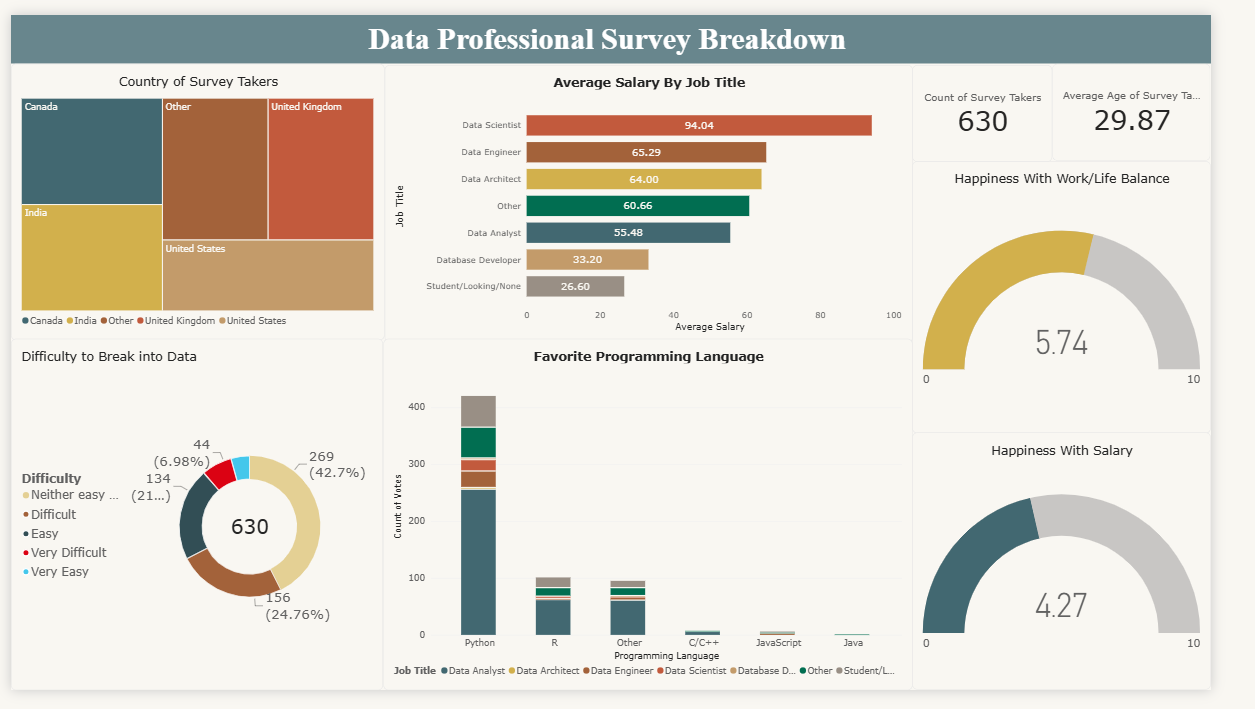

The page's visual inventory and layout, read from the dashboard file:
{"tool":"powerbi","page":{"name":"Page 1","canvas":[1920,1080],"ordinal":0},"visuals":[{"type":"textbox","box":[0,0,1920,77.8],"z":0},{"type":"cardVisual","fields":{"Data":["CountNonNull(Data Professional Survey.Unique ID)"]},"box":[1442.2,80,224.4,155.6],"z":1000},{"type":"cardVisual","fields":{"Data":["Avg(Data Professional Survey.Q10 - Current Age)"]},"box":[1666.7,77.8,253.3,155.6],"z":2000},{"type":"barChart","title":"Average Salary By Job Title","fields":{"Category":["Data Professional Survey.Q1 - Which Title Best Fits your Current Role?.1"],"Series":["Data Professional Survey.Q1 - Which Title Best Fits your Current Role?.1"],"Y":["Avg(Data Professional Survey.Average Salary)"]},"box":[597.8,80,844.4,444],"z":3000},{"type":"columnChart","title":"Favorite Programming Language","fields":{"Category":["Data Professional Survey.Q5 - Favorite Programming Language.1"],"Series":["Data Professional Survey.Q1 - Which Title Best Fits your Current Role?.1"],"Y":["CountNonNull(Data Professional Survey.Unique ID)"]},"box":[595.6,517.8,846.7,562.2],"z":4000},{"type":"treemap","title":"Country of Survey Takers","fields":{"Group":["Data Professional Survey.Q11 - Which Country do you live in?.1"],"Values":["Count(Data Professional Survey.Q11 - Which Country do you live in?.1)"]},"box":[0,77.8,597.8,442.2],"z":5000},{"type":"gauge","title":"Happiness With Work/Life Balance","fields":{"MaxValue":["Max(Data Professional Survey.Q6 - How Happy are you in your Current Position with the following? (Work/Life Balance))2"],"MinValue":["Min(Data Professional Survey.Q6 - How Happy are you in your Current Position with the following? (Work/Life Balance))1"],"Y":["Avg(Data Professional Survey.Q6 - How Happy are you in your Current Position with the following? (Work/Life Balance))"]},"box":[1442.2,233.3,477.8,435.6],"z":6000},{"type":"gauge","title":"Happiness With Salary","fields":{"MaxValue":["Max(Data Professional Survey.Q6 - How Happy are you in your Current Position with the following? (Salary))"],"MinValue":["Min(Data Professional Survey.Q6 - How Happy are you in your Current Position with the following? (Salary))"],"Y":["Avg(Data Professional Survey.Q6 - How Happy are you in your Current Position with the following? (Salary))"]},"box":[1442.2,668.9,477.8,411.1],"z":7000},{"type":"donutChart","title":"Difficulty to Break into Data","fields":{"Category":["Data Professional Survey.Q7 - How difficult was it for you to break into Data?"],"Y":["CountNonNull(Data Professional Survey.Q7 - How difficult was it for you to break into Data?)"]},"box":[0,517.8,595.6,562.2],"z":8000}]}

Visuals, with their boxes in screenshot pixels (x1, y1, x2, y2), scaled from the page's 1920x1080 canvas onto the 1255x709 screenshot:
textbox: bbox(0, 0, 1254, 51)
cardVisual - CountNonNull(Data Professional Survey.Unique ID): bbox(943, 53, 1089, 155)
cardVisual - Avg(Data Professional Survey.Q10 - Current Age): bbox(1089, 51, 1254, 153)
"Average Salary By Job Title" barChart: bbox(391, 53, 943, 344)
"Favorite Programming Language" columnChart: bbox(389, 340, 943, 708)
"Country of Survey Takers" treemap: bbox(0, 51, 391, 341)
"Happiness With Work/Life Balance" gauge: bbox(943, 153, 1254, 439)
"Happiness With Salary" gauge: bbox(943, 439, 1254, 708)
"Difficulty to Break into Data" donutChart: bbox(0, 340, 389, 708)
